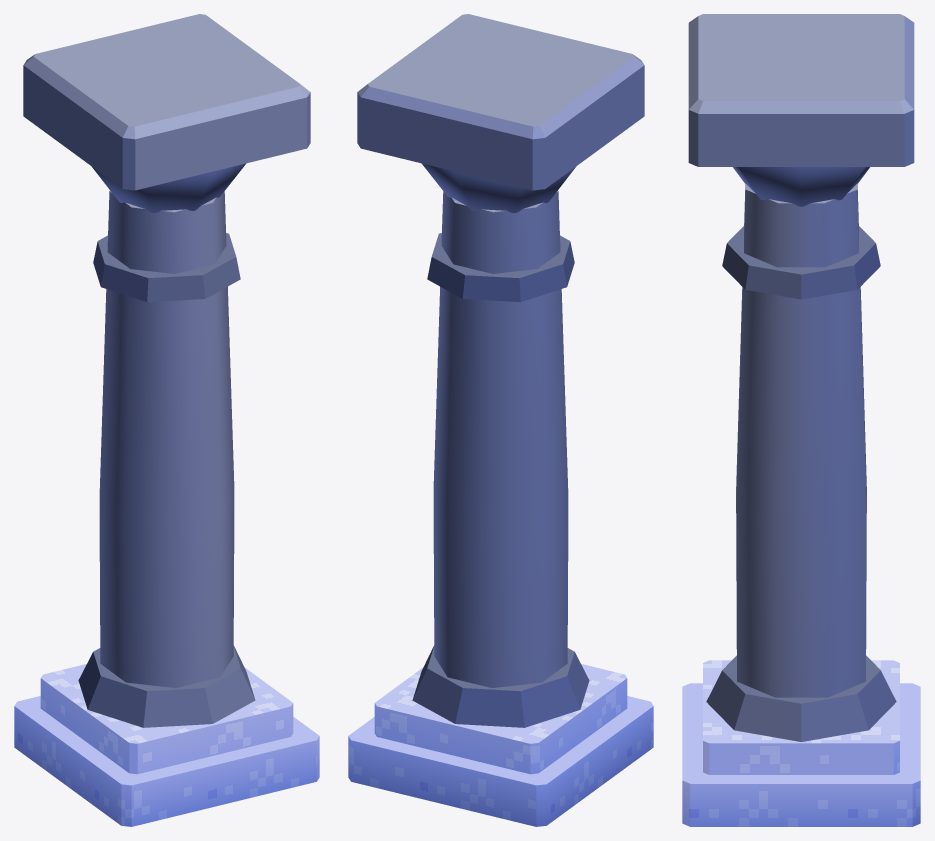
The model's file is ruin.column.glb.
3 views of the same model, side by side, from view 1: azimuth 30°, elevation 25°; view 2: azimuth 150°, elevation 25°; view 3: azimuth 270°, elevation 25° (orthographic). The views are drawn at different scales.
Parts seen in each view (by area): view 1: kit_shaft, kit_capital, kit_plinth, kit_base, kit_ring; view 2: kit_shaft, kit_capital, kit_plinth, kit_base, kit_ring; view 3: kit_shaft, kit_capital, kit_plinth, kit_base, kit_ring.
Boxes of the visible parts, box(x1,y1,x2,y2) form: kit_shaft: box(99, 191, 234, 688); kit_capital: box(23, 14, 310, 213); kit_plinth: box(14, 664, 319, 826); kit_base: box(78, 645, 255, 727); kit_ring: box(93, 233, 240, 302); kit_shaft: box(433, 191, 568, 688); kit_capital: box(357, 14, 644, 213); kit_plinth: box(348, 664, 653, 826); kit_base: box(412, 645, 589, 727); kit_ring: box(427, 233, 574, 302); kit_shaft: box(736, 184, 866, 697); kit_capital: box(688, 14, 914, 206); kit_plinth: box(682, 660, 920, 826); kit_base: box(706, 655, 896, 741); kit_ring: box(722, 226, 880, 299).
Bounding box in the file's own units: 1.5 × 5 × 1.5.
3 materials, 1 textured.
